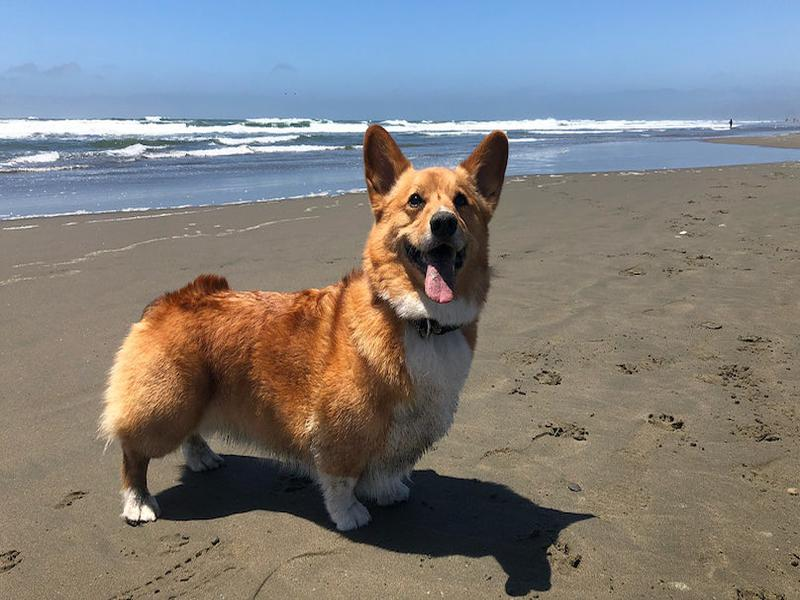corgi: (360, 124, 512, 308)
